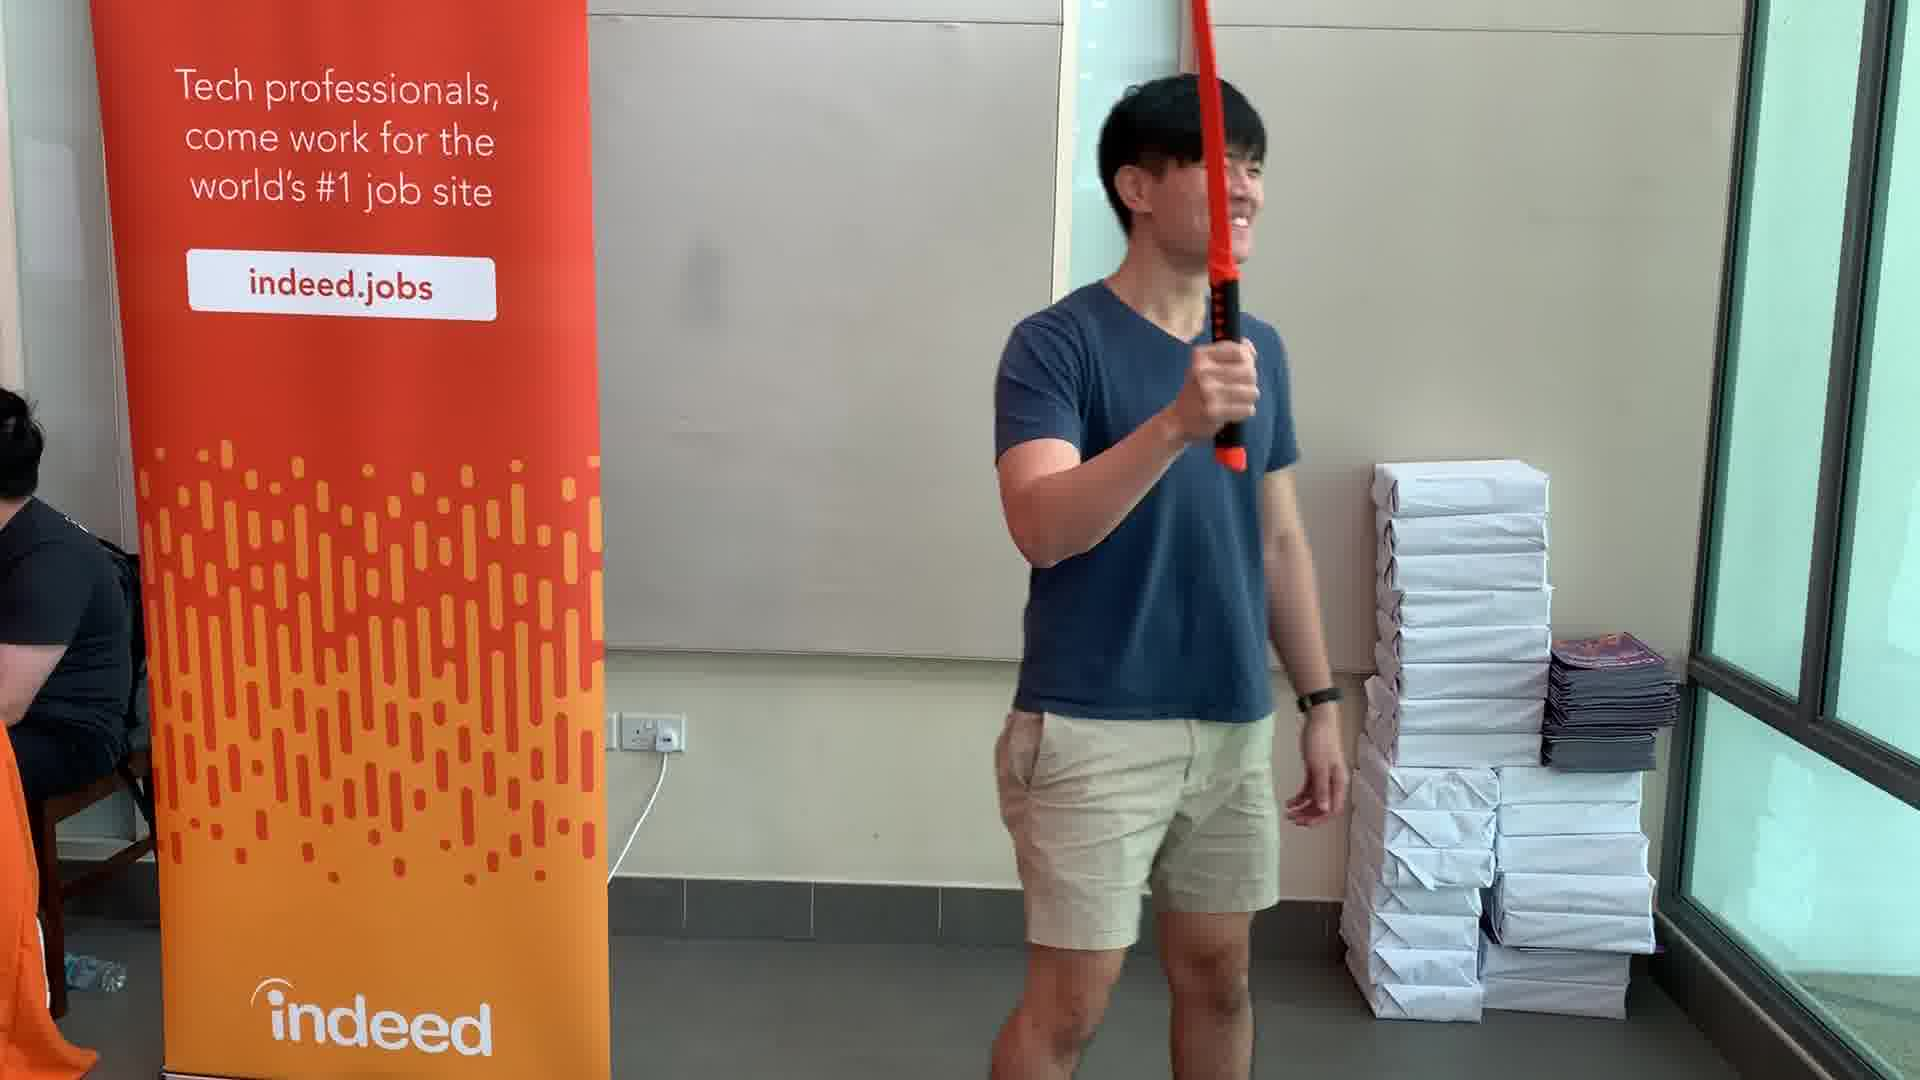knife: (1168, 1, 1257, 465)
